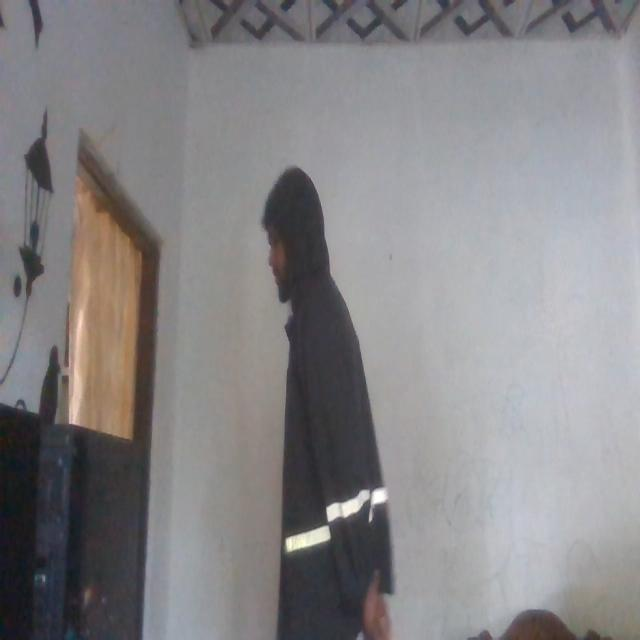Jacket_Wearer: (250, 279, 396, 621)
Person: (252, 162, 395, 640)
